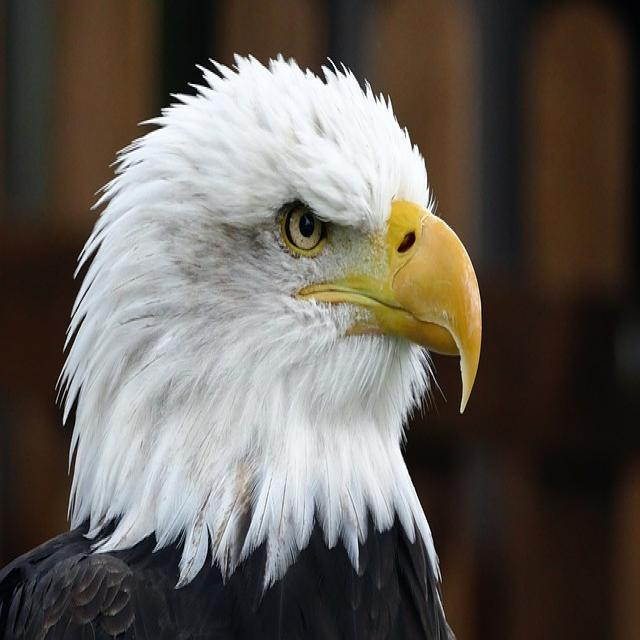Carnivorous: (0, 54, 484, 640)
